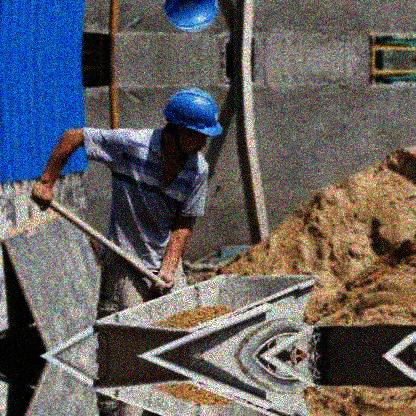helmet: (163, 89, 224, 164)
